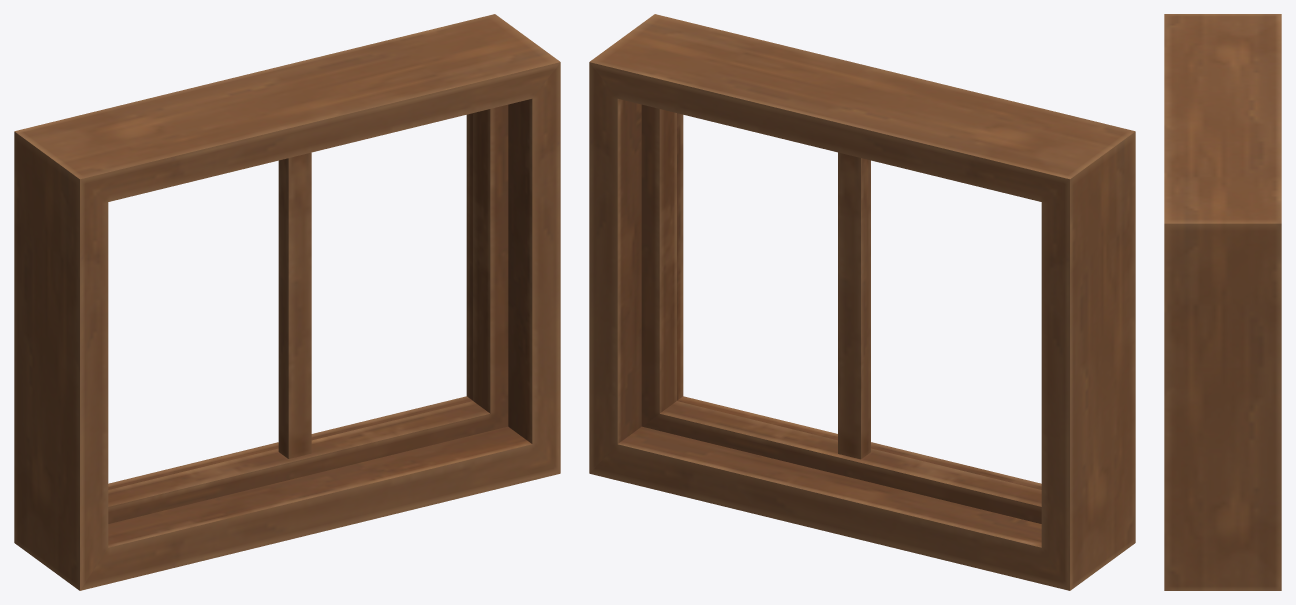
File: mdl_window_02.fbx
3 views of the same model, side by side, from view 1: azimuth 30°, elevation 25°; view 2: azimuth 150°, elevation 25°; view 3: azimuth 270°, elevation 25° (orthographic). The views are drawn at different scales.
Visible parts, largest first — view 1: window; view 2: window; view 3: window.
Part boxes in pixels (x1,y1,x2,y2): window: (14, 14, 560, 590); window: (589, 14, 1135, 590); window: (1164, 14, 1281, 590).
Bounding box in the file's own units: 240 × 196 × 56.66.
Materials: 1 (1 with a texture image).
